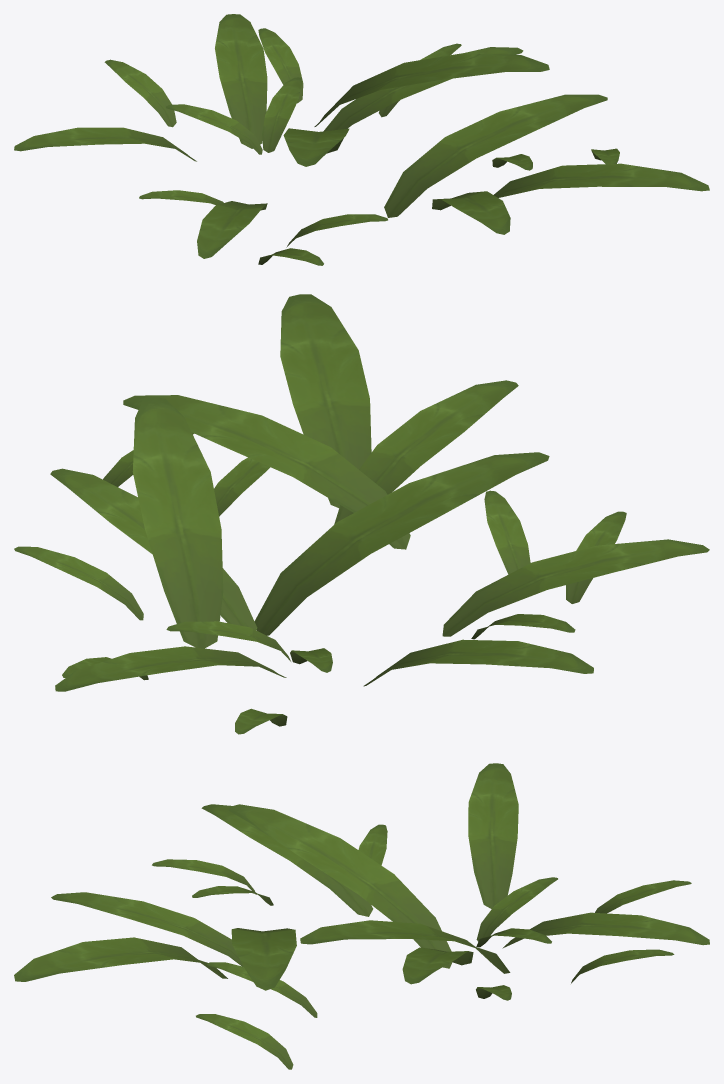
The model's file is grass_003.glb.
3 renders of one model, top to bottom at view 1: azimuth 30°, elevation 25°; view 2: azimuth 150°, elevation 25°; view 3: azimuth 270°, elevation 25°, orthographic. The views are drawn at different scales.
Parts seen in each view (by area): view 1: Plane.002; view 2: Plane.002; view 3: Plane.002.
Part boxes in pixels (box(x1,y1,x2,y2)): Plane.002: box(14, 14, 709, 265); Plane.002: box(14, 294, 709, 734); Plane.002: box(14, 763, 709, 1069).
Size of the model in its own units: 1.15 by 0.2346 by 1.36.
Materials: 1 (1 with a texture image).
